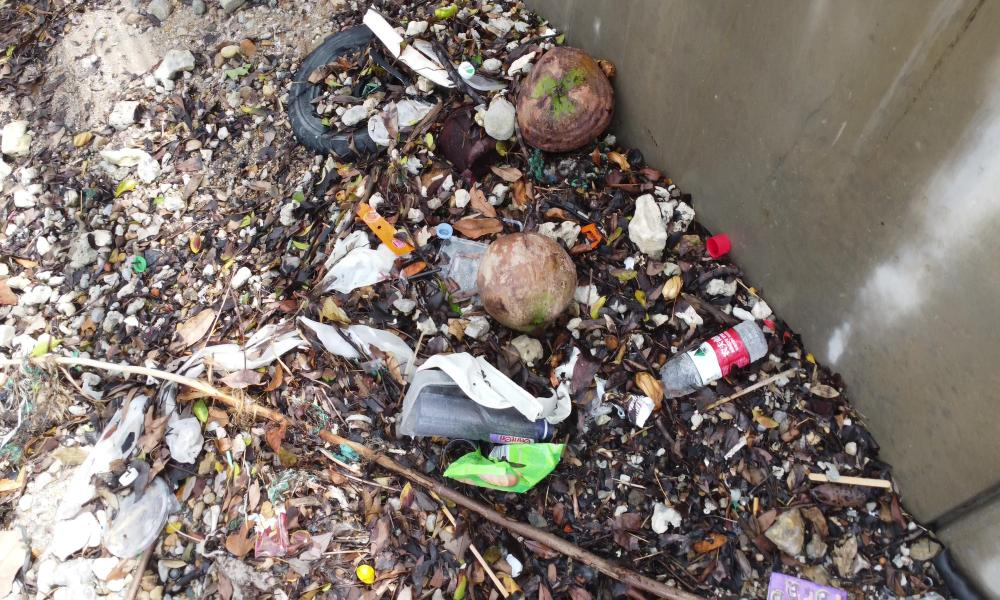plastic bag: (438, 446, 570, 485)
plastic bottle: (654, 311, 778, 416), (412, 395, 560, 437)
tire: (290, 16, 438, 154)
